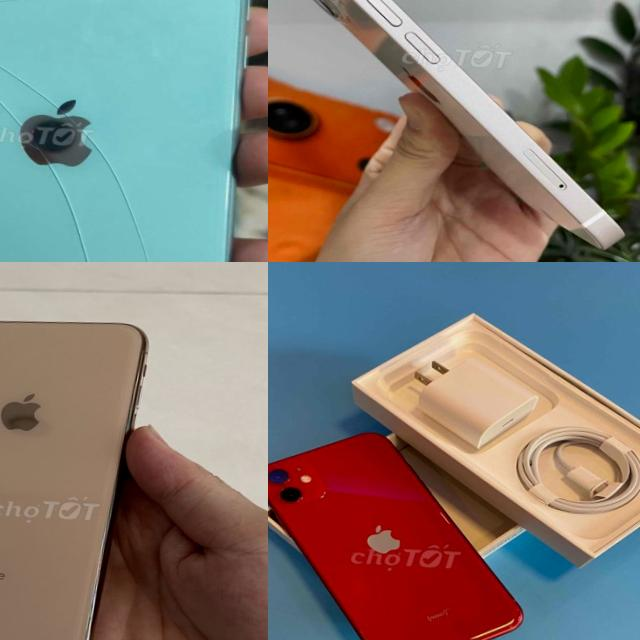gen_11: (0, 0, 268, 262), (268, 423, 549, 640)
gen_12_13: (268, 0, 640, 261)
gen_x_xs: (0, 321, 146, 640)
physical_damage: (0, 0, 193, 262)
